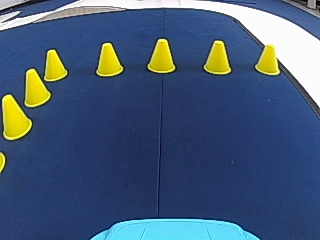cone: (1, 94, 32, 139), (23, 68, 51, 107), (147, 38, 177, 73), (203, 39, 232, 74), (96, 42, 124, 76), (255, 43, 281, 75), (43, 49, 67, 80)
